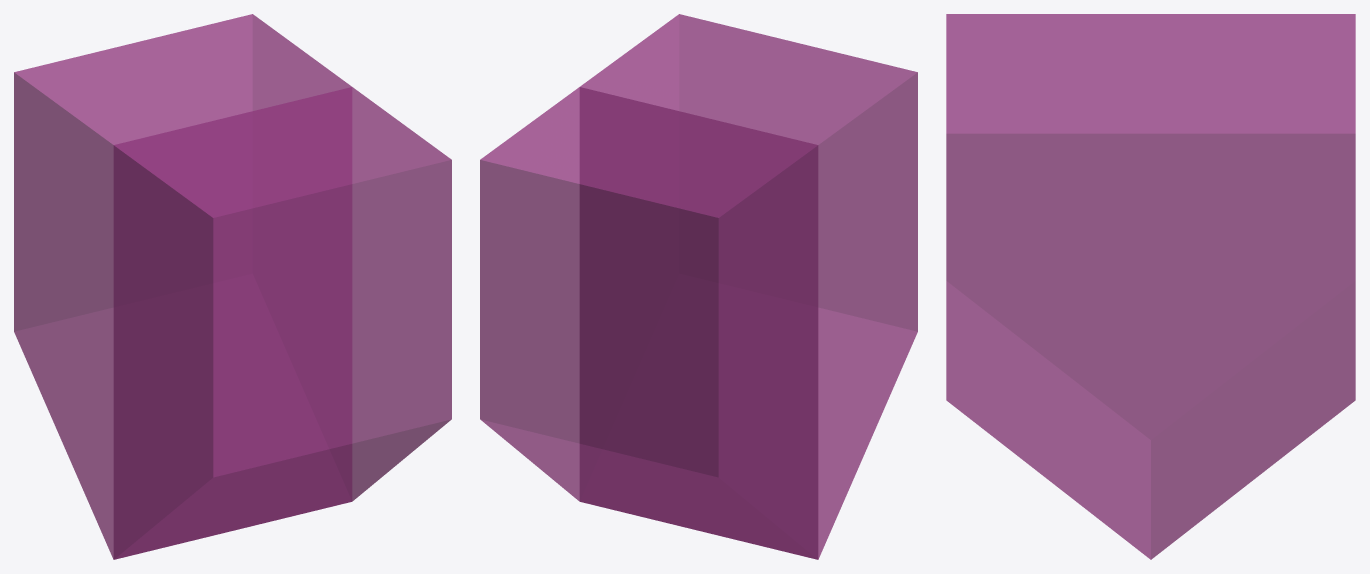
The model's file is SM_Bld_Roof_Trim_Cap_02_Collision_01.fbx.
3 views of the same model, side by side, from view 1: azimuth 30°, elevation 25°; view 2: azimuth 150°, elevation 25°; view 3: azimuth 270°, elevation 25° (orthographic). The views are drawn at different scales.
Visible parts, largest first — view 1: SM_Bld_Roof_Trim_Cap_02_Collision_01; view 2: SM_Bld_Roof_Trim_Cap_02_Collision_01; view 3: SM_Bld_Roof_Trim_Cap_02_Collision_01.
Part boxes in pixels (<box>): SM_Bld_Roof_Trim_Cap_02_Collision_01: <box>14,14,451,559</box>; SM_Bld_Roof_Trim_Cap_02_Collision_01: <box>480,14,917,559</box>; SM_Bld_Roof_Trim_Cap_02_Collision_01: <box>946,14,1355,559</box>.
Size of the model in its own units: 40.62 by 67.45 by 58.7.
